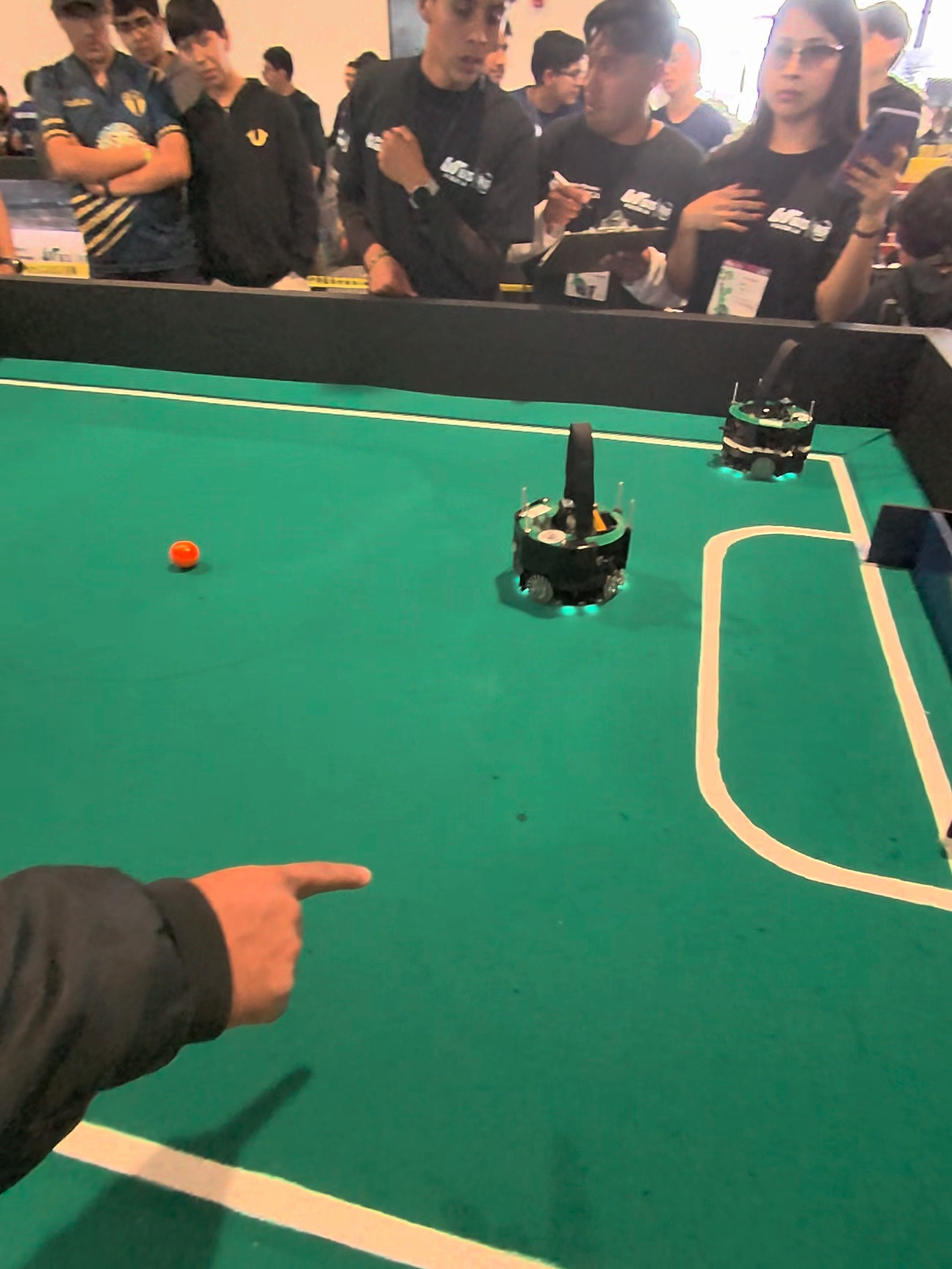Robot: (500, 424, 648, 628), (708, 334, 821, 494)
pelota: (157, 531, 211, 583)
